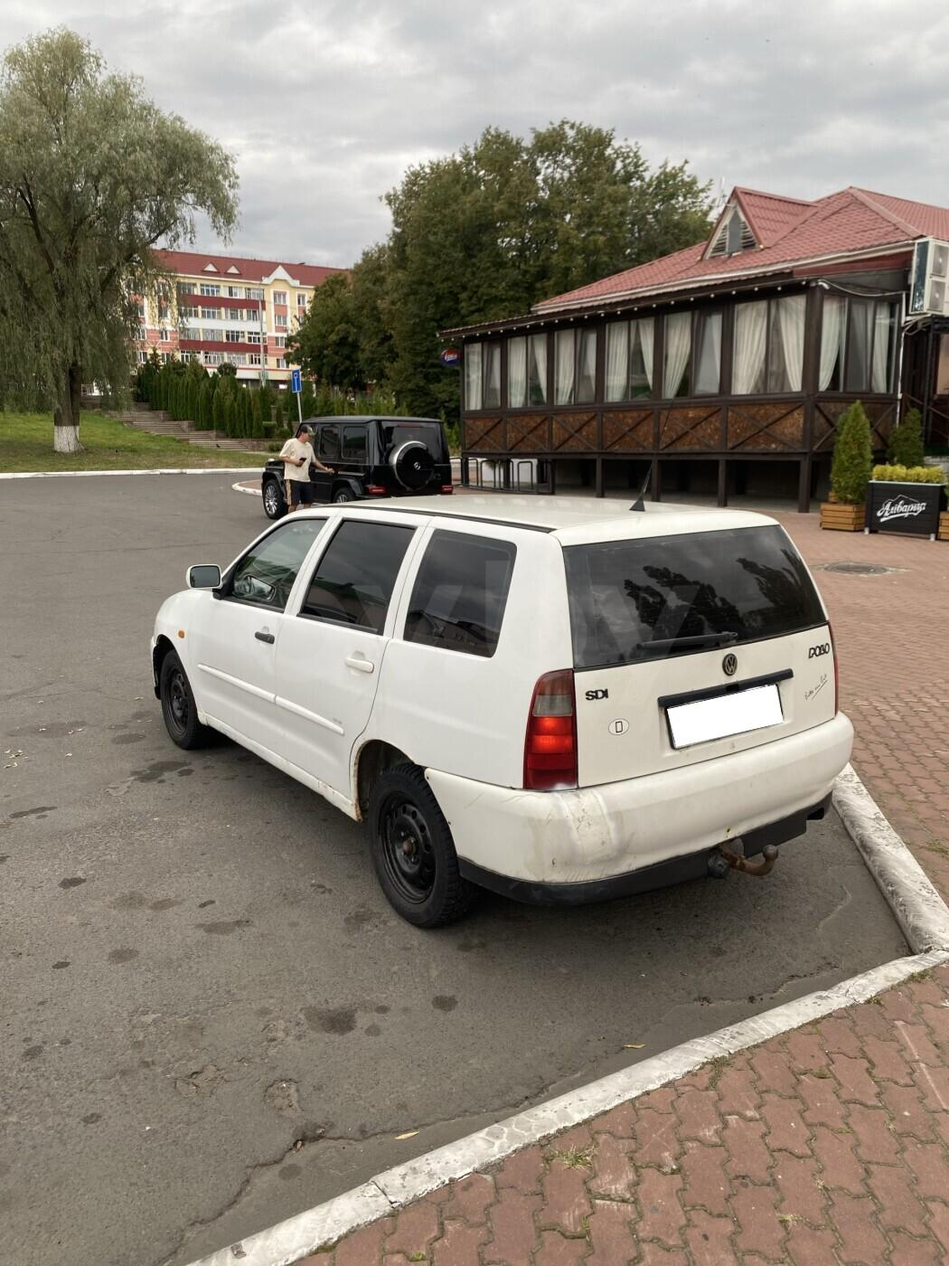Polo_1994-2002: (137, 485, 868, 929)
